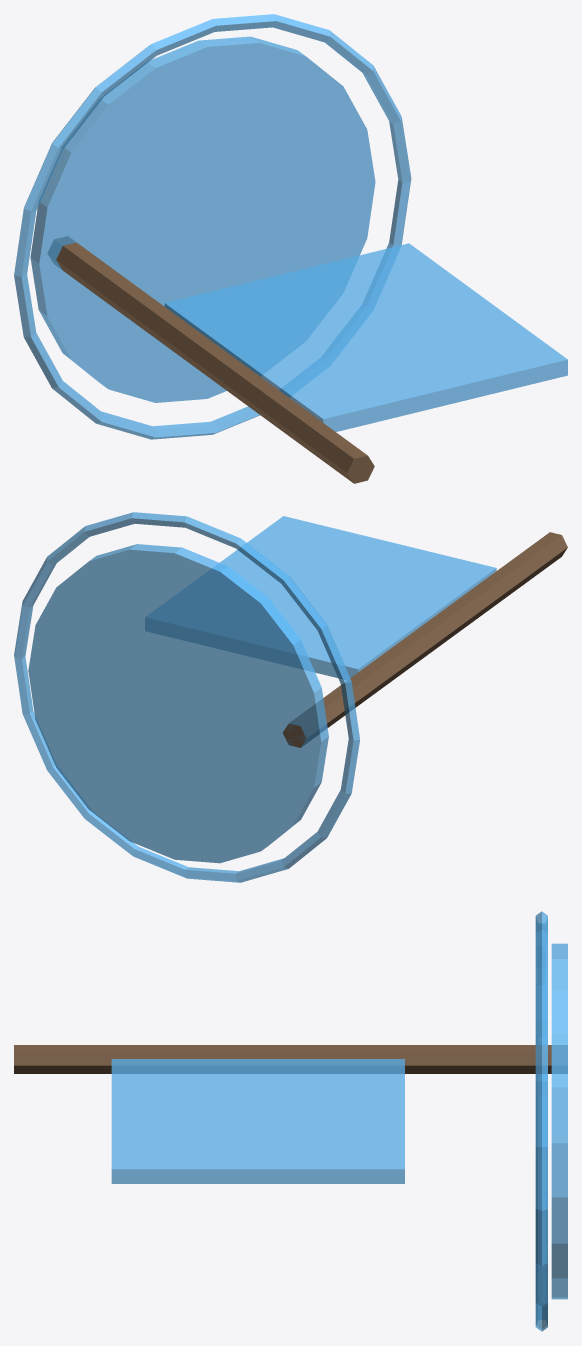
File: 11_victory_banner.glb
3 renders of one model, top to bottom at view 1: azimuth 30°, elevation 25°; view 2: azimuth 150°, elevation 25°; view 3: azimuth 270°, elevation 25°, orthographic. The views are drawn at different scales.
Parts seen in each view (by area): view 1: base_disc, cloth, base_ring, pole; view 2: base_disc, cloth, base_ring, pole; view 3: cloth, pole, base_disc, base_ring.
Boxes of the visible parts, <box> form: base_disc: <box>30,36,375,402</box>; cloth: <box>164,243,567,431</box>; base_ring: <box>14,14,411,439</box>; pole: <box>48,236,374,483</box>; base_disc: <box>28,544,328,863</box>; cloth: <box>145,516,496,679</box>; base_ring: <box>14,512,359,882</box>; pole: <box>283,532,567,747</box>; cloth: <box>111,1059,404,1183</box>; pole: <box>14,1045,567,1073</box>; base_disc: <box>551,943,567,1299</box>; base_ring: <box>535,911,547,1331</box>.
Bounding box in the file's own units: 1.3 × 1.3 × 1.7.
